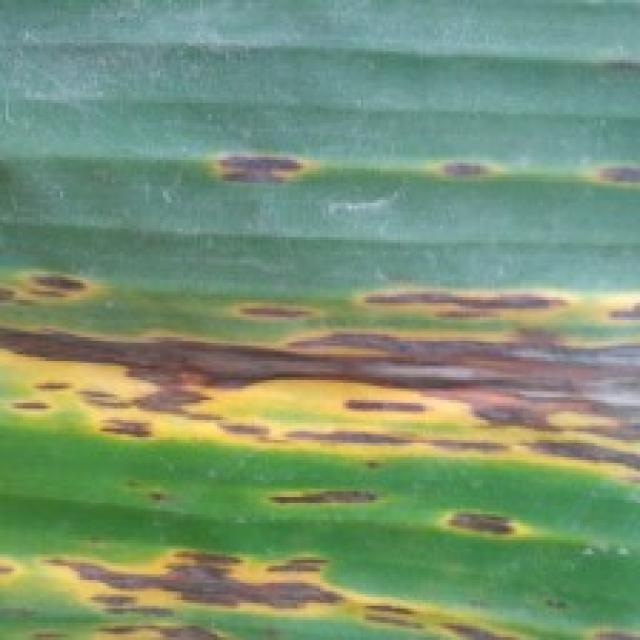Early_leaf_spot: (0, 261, 640, 477), (0, 508, 640, 638), (228, 466, 416, 536), (417, 481, 532, 558), (195, 142, 309, 213), (0, 256, 98, 321), (417, 148, 501, 217), (558, 149, 640, 214)
